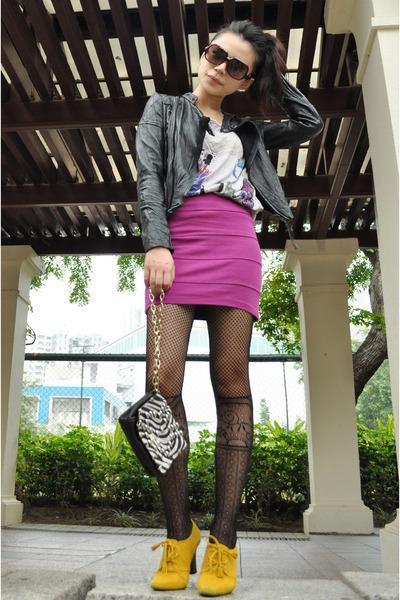bag: (119, 276, 186, 475)
jacket: (132, 92, 323, 248)
shirt: (187, 106, 263, 216)
shoe: (151, 540, 237, 599)
skirt: (156, 195, 275, 320)
sunglass: (208, 48, 241, 79)
